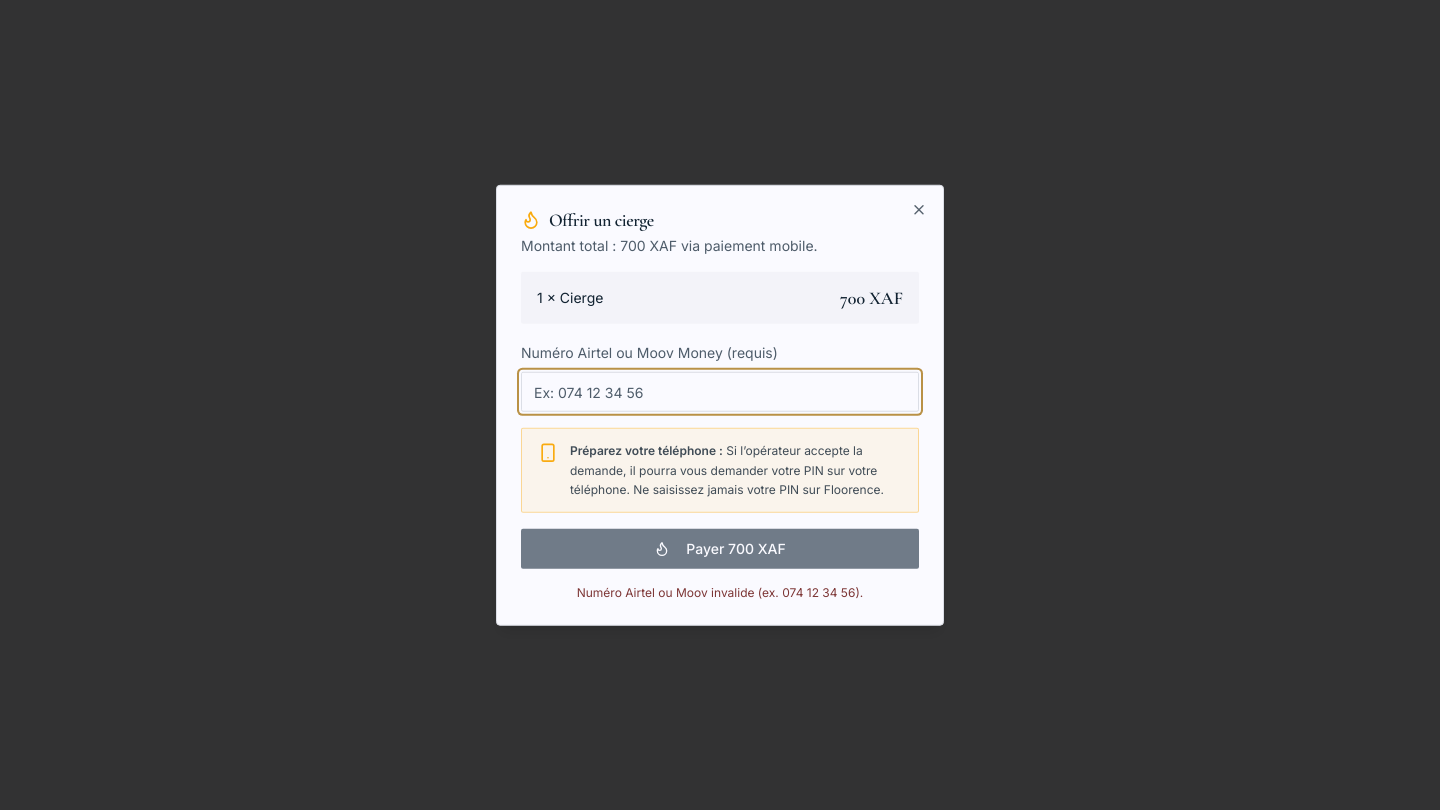
Test case: shows a failed preparation inside the modal and never reports success
In the field labelled "Numéro Airtel ou Moov Money (requis)": (720, 392) [521, 372, 919, 412], type "+24177123456"
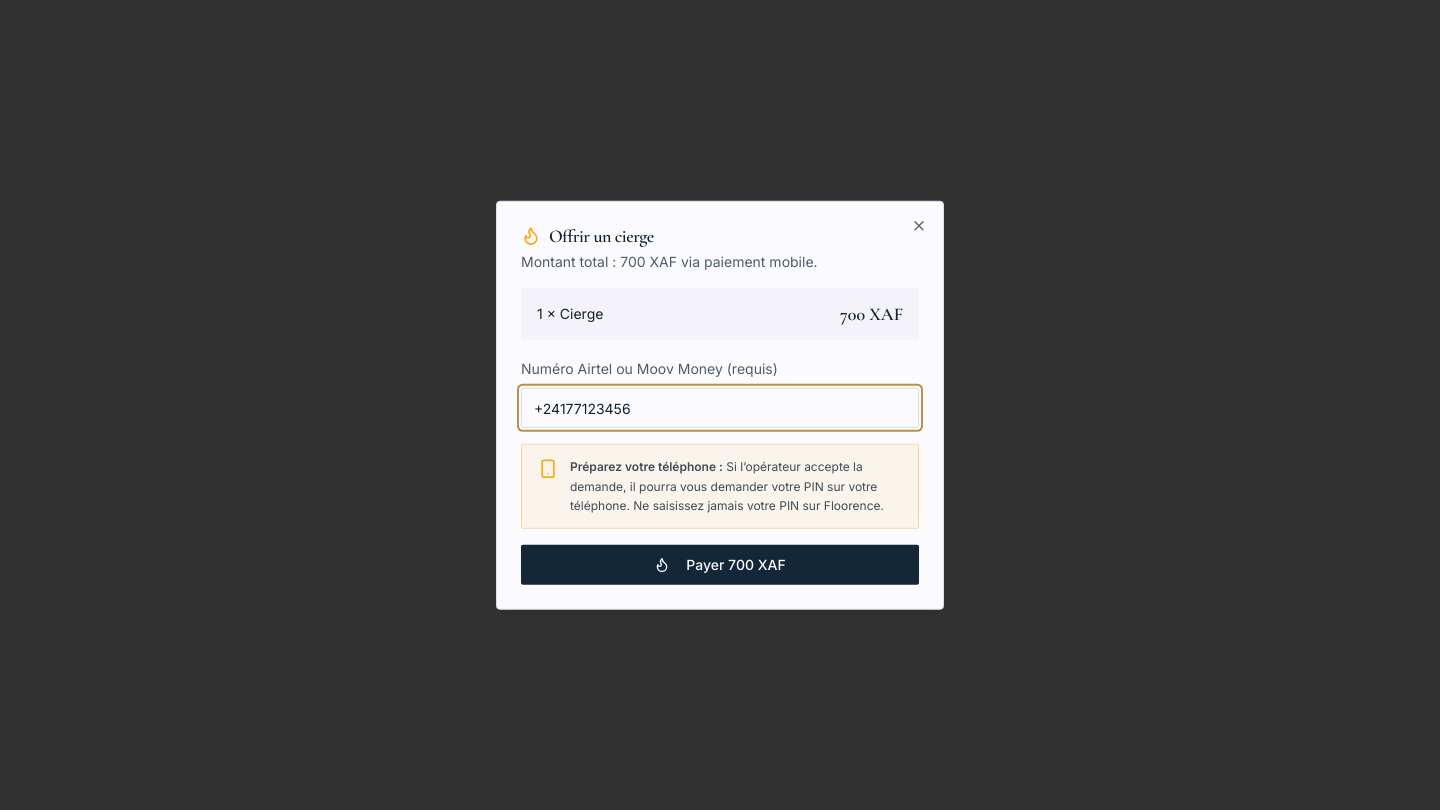
Click the button "Payer 700 XAF": (720, 564) [521, 544, 919, 584]
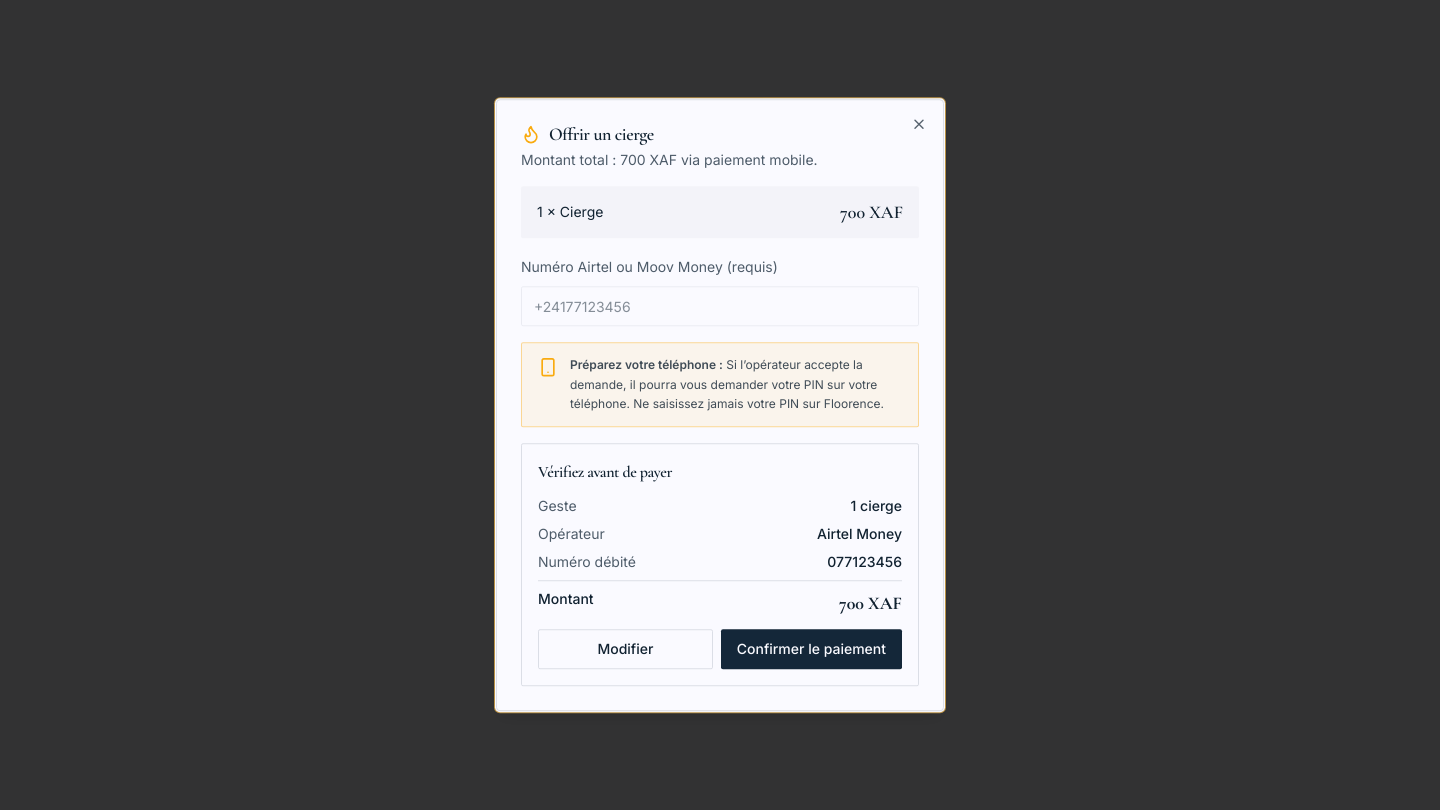
Click the button "Confirmer le paiement": (811, 649) [721, 629, 902, 669]
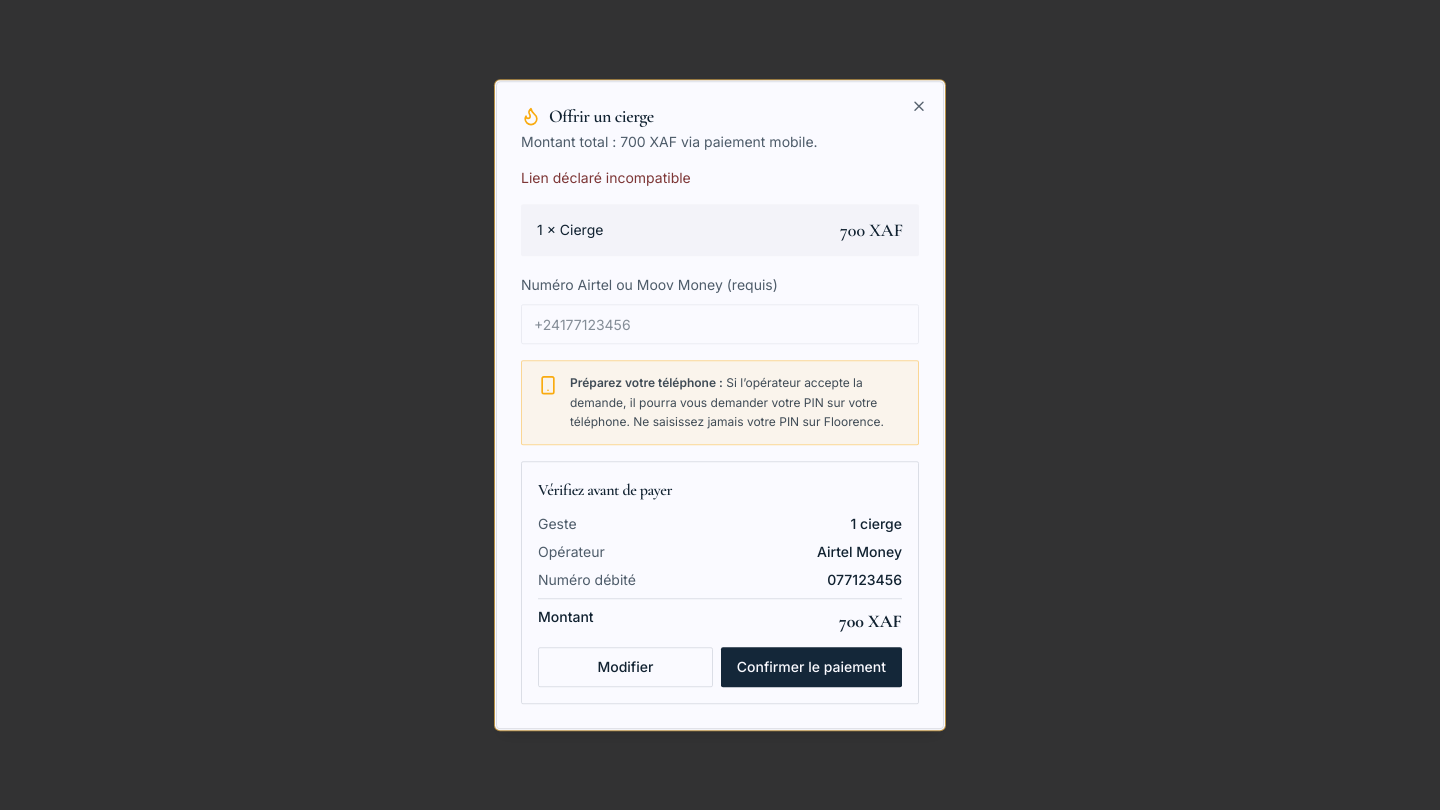
Expected: the message reads "Lien déclaré incompatible", [521, 169, 691, 186]
